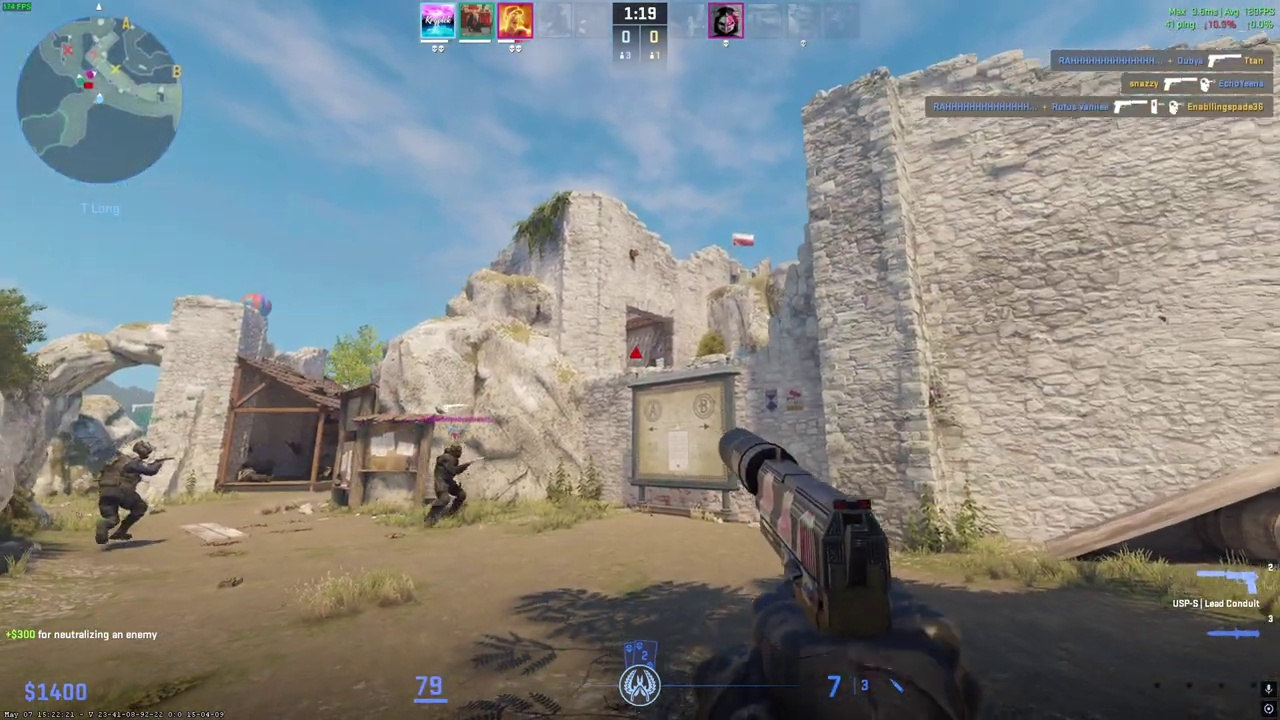CT: (96, 440, 158, 544), (426, 443, 471, 527)
